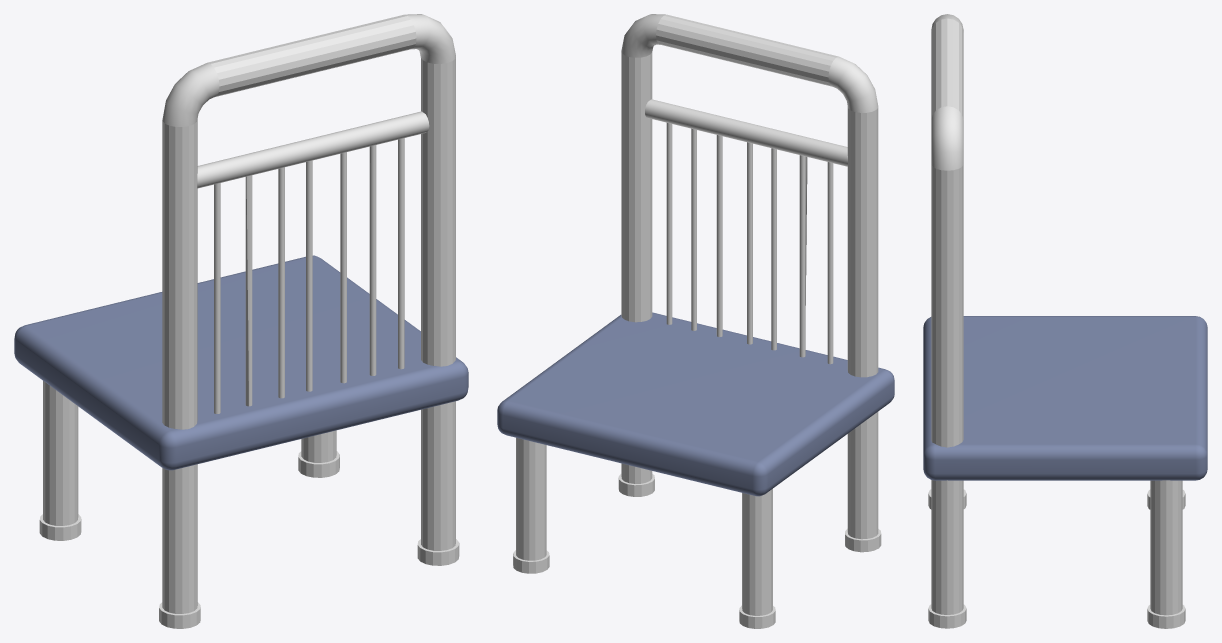
File: Chair.fbx
3 views of the same model, side by side, from view 1: azimuth 30°, elevation 25°; view 2: azimuth 150°, elevation 25°; view 3: azimuth 270°, elevation 25° (orthographic). The views are drawn at different scales.
Visible parts, largest first — view 1: polySurface45; view 2: polySurface45; view 3: polySurface45.
Part boxes in pixels (bbox=[...]): polySurface45: bbox=[14, 14, 468, 628]; polySurface45: bbox=[497, 14, 894, 628]; polySurface45: bbox=[923, 14, 1207, 628].
Size of the model in its own units: 10.02 by 17.06 by 8.79.
